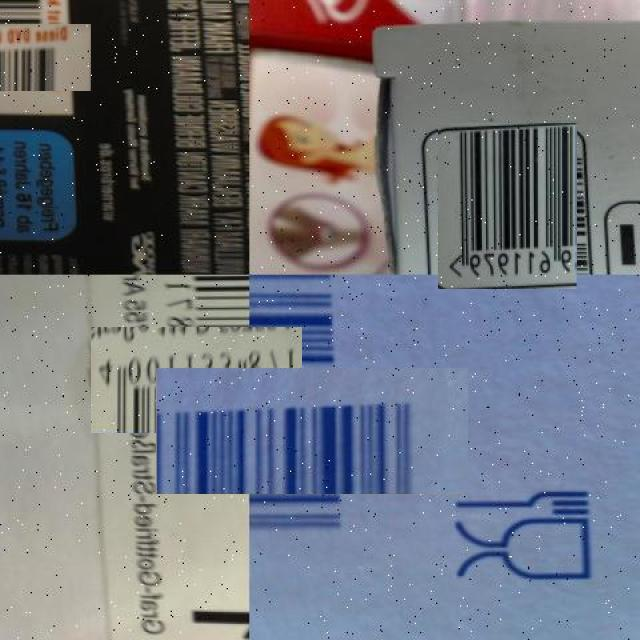Barcode: (203, 321, 422, 540), (116, 301, 276, 460), (431, 129, 584, 282), (0, 11, 79, 103)
